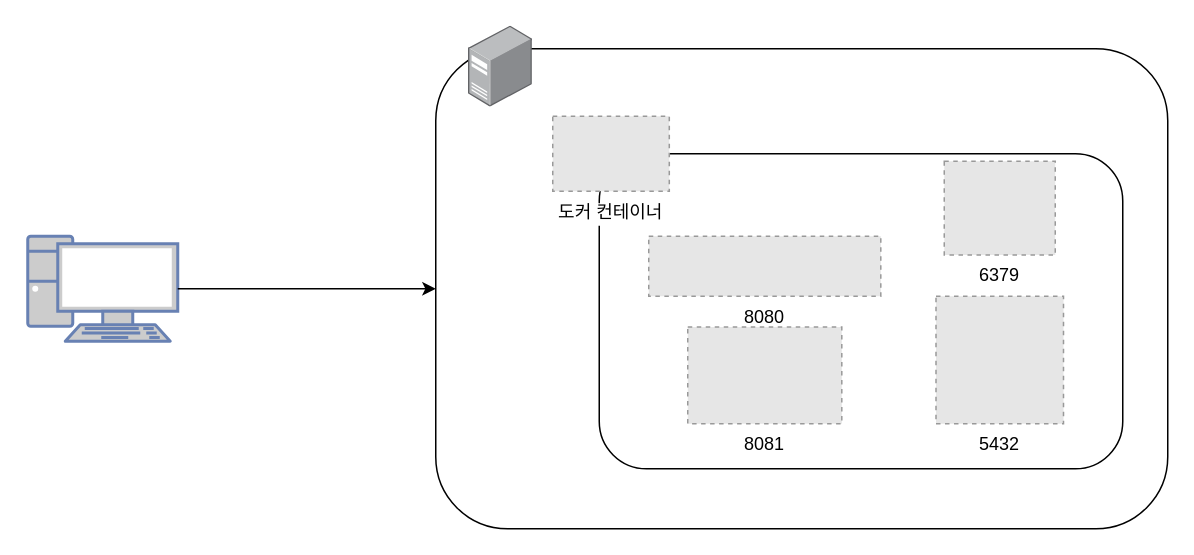
This 1194x555 diagram has some shape labels left out. Grey dashed boxes stand in for pictures. The shapes that lost their labels are listed below. From the top down, each one's centre as x and y in pixels, then its label:
At (x=500, y=66): "서버 컴퓨터".
At (x=102, y=288): "사용자 접속 8080".
